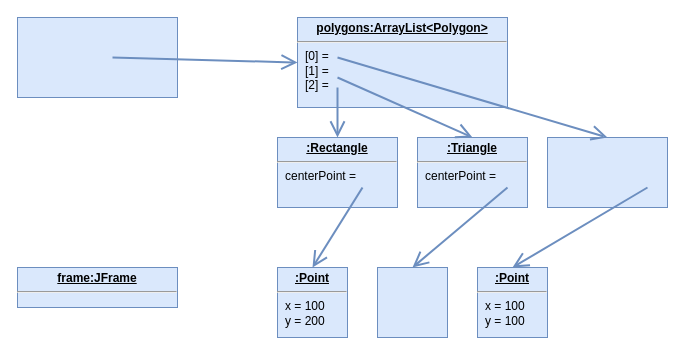
Image size: 685x355. Some labels were removed from this diagram. The shapes that lost their labels are listed below. From the top down, each one's box as (x1, y1, x2, y2) in pixels, then its label:
(16, 16, 178, 98): polygons:DrawPolygons polygons =
(546, 136, 668, 208): :Square centerPoint =
(376, 266, 448, 338): :Point x = 150 y = 150
